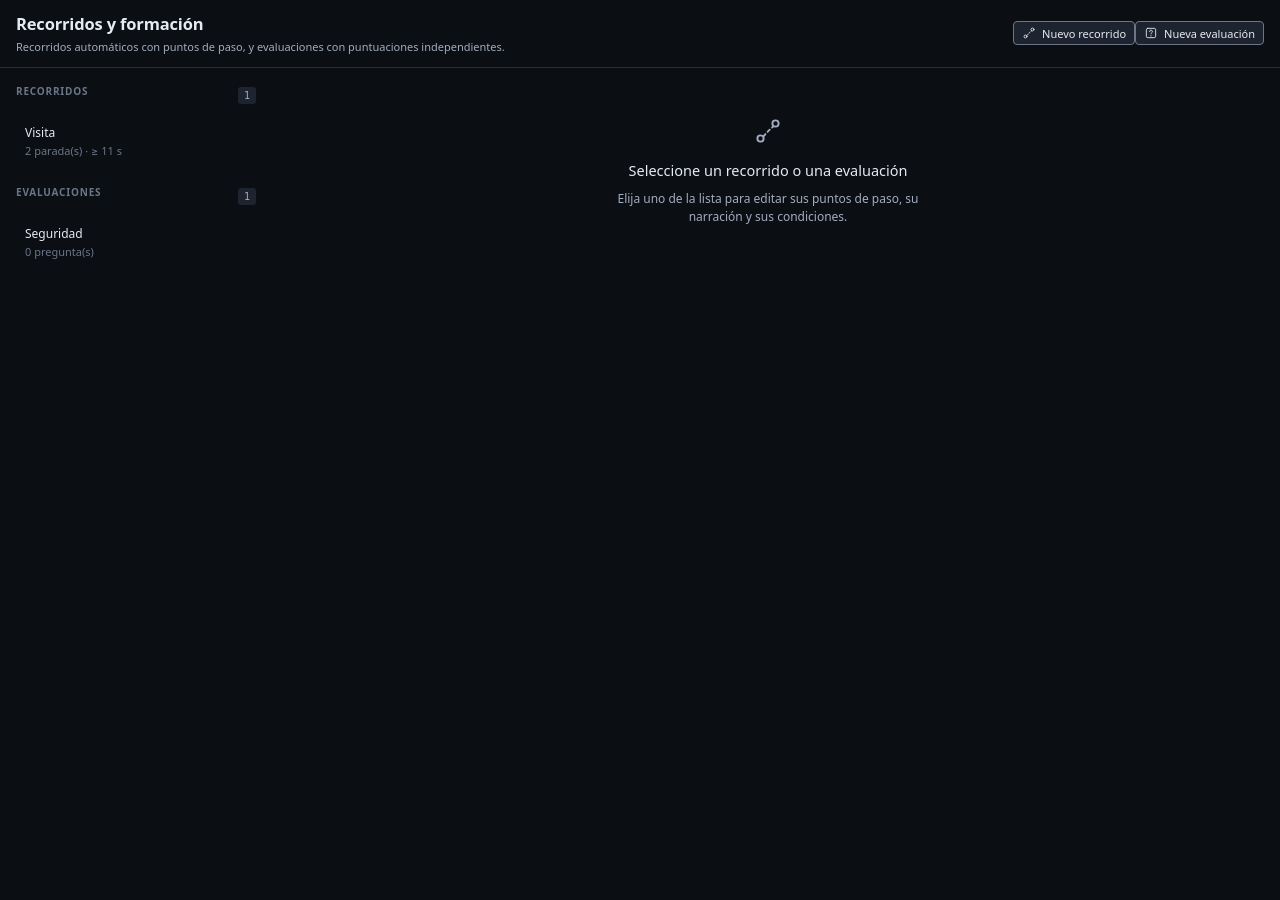
it: ToursModule — comportamiento › TEST-TUI-012 la nota mínima sólo se habilita con evaluación elegida
Click the button "Visita 2 parada(s) · ≥ 11 s": (136, 142) [16, 115, 256, 169]
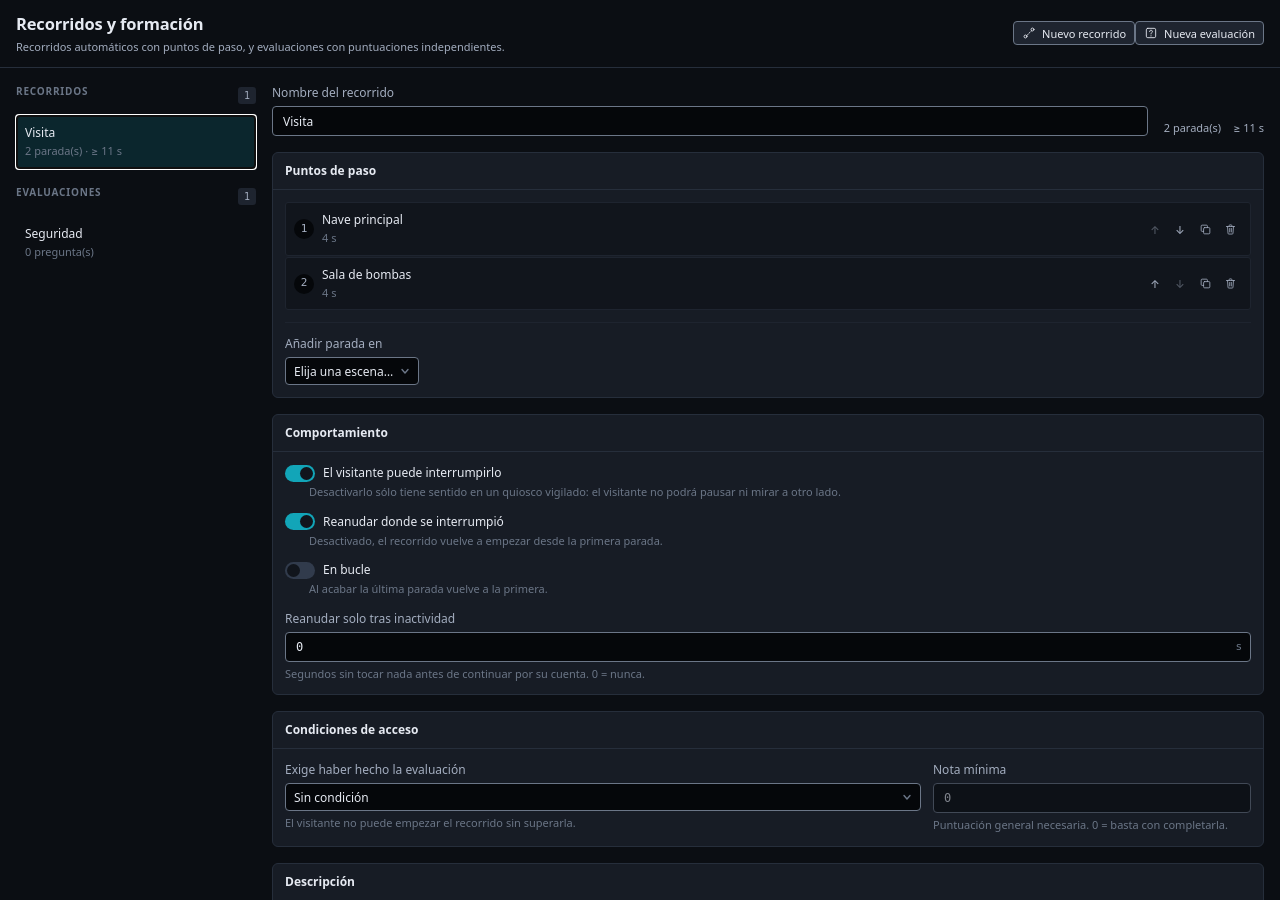
Expected: the field labelled "Nota mínima" is disabled, [942, 790, 1242, 806]
Select "Seguridad" in the dropdown labelled "Exige haber hecho la evaluación": (603, 797) [285, 783, 921, 811]
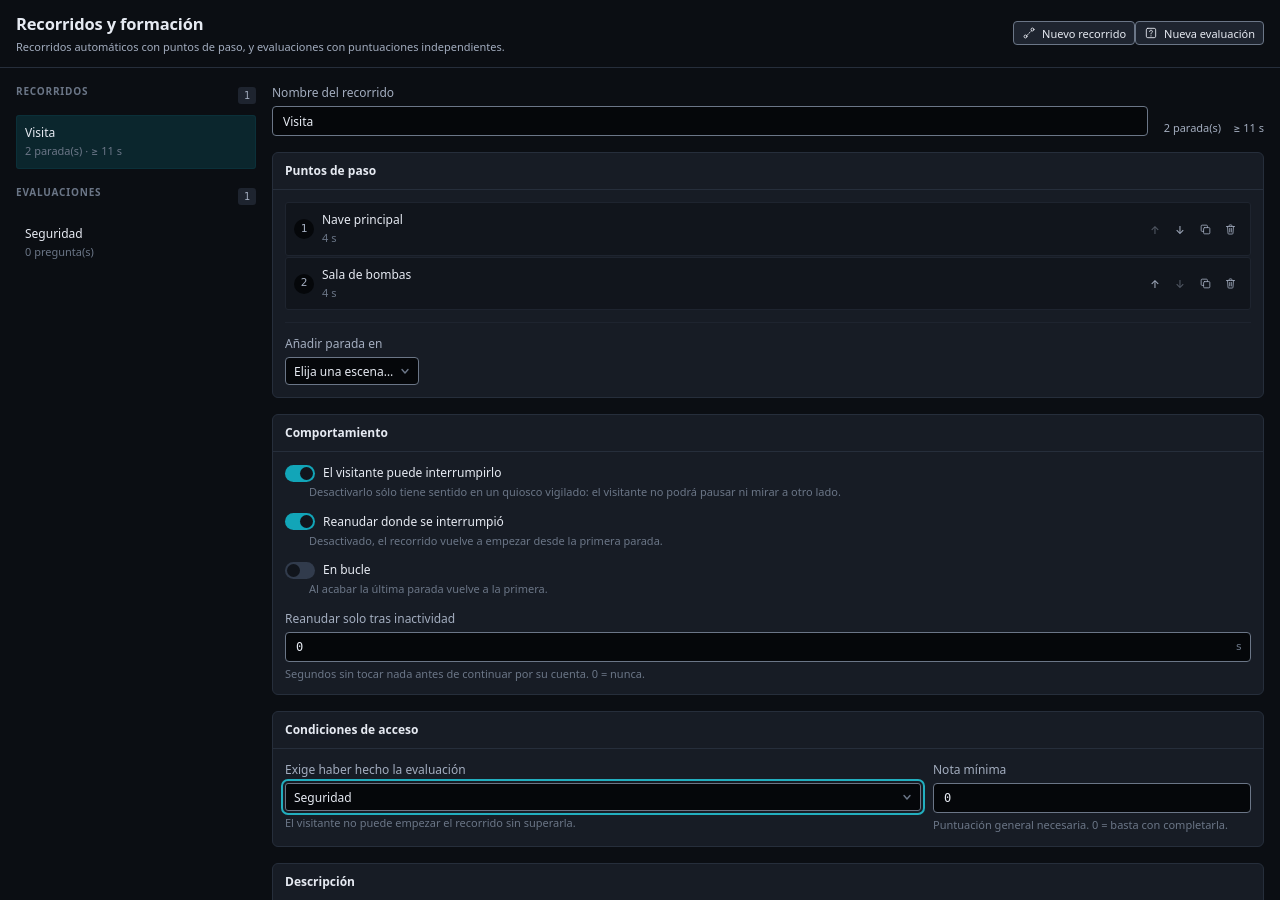
Expected: the field labelled "Nota mínima" is enabled, [942, 790, 1242, 806]
